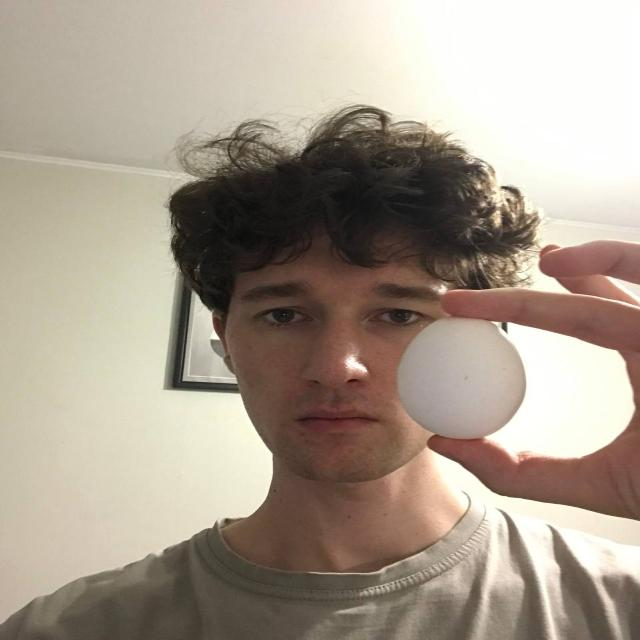egg: (396, 317, 527, 440)
